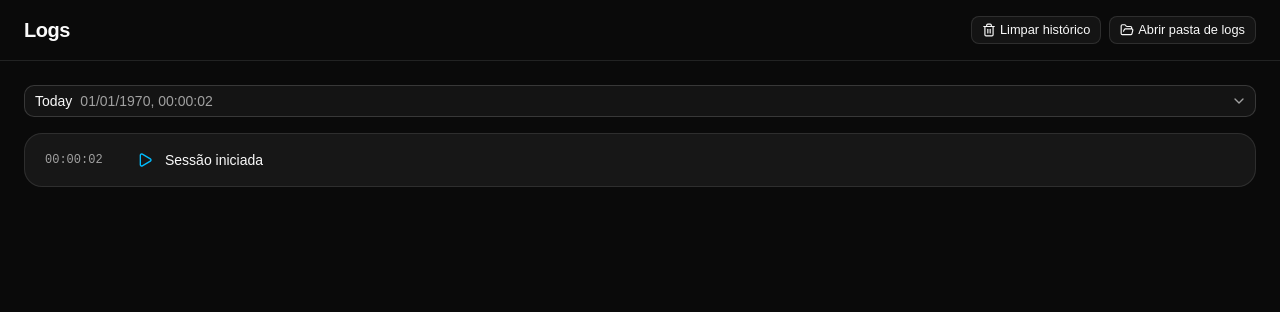
Test: LogsScreen › shows an older session once it is picked
Press ArrowDown in the dropdown named "Sessão", box [24,85,1256,117]
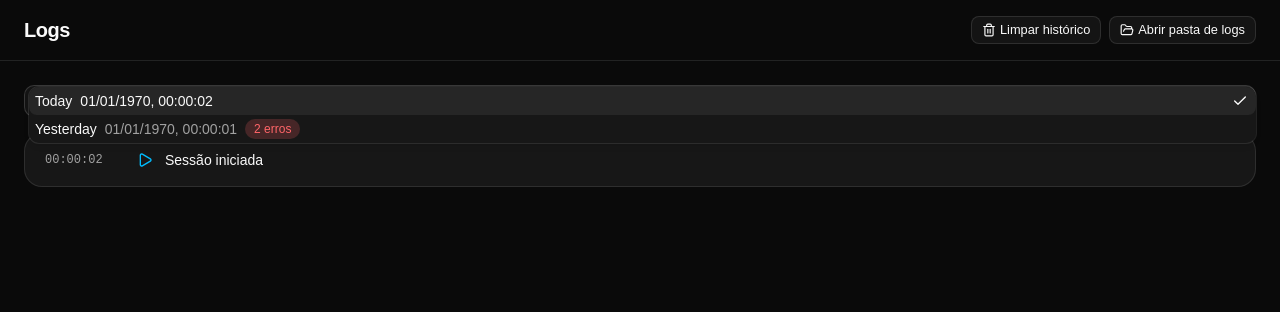
Click the text "Yesterday": (66, 129) [35,119,97,139]
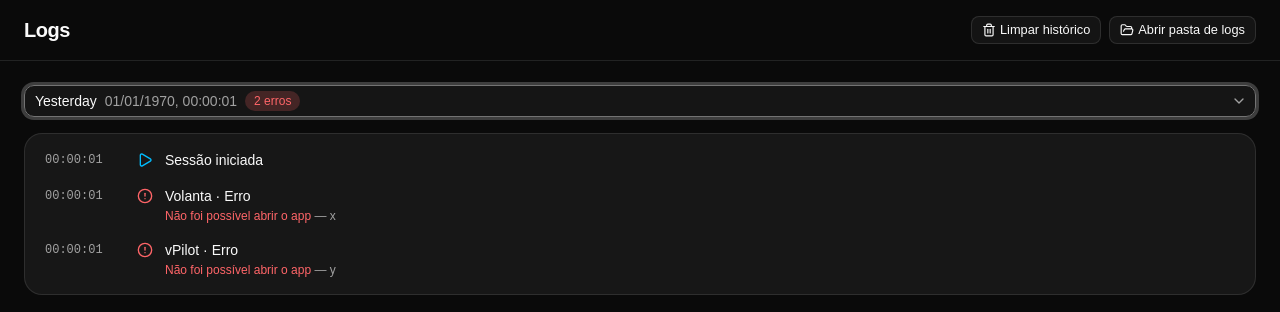
Check: the text "Volanta ·" is shown, box [165,188,224,204]
